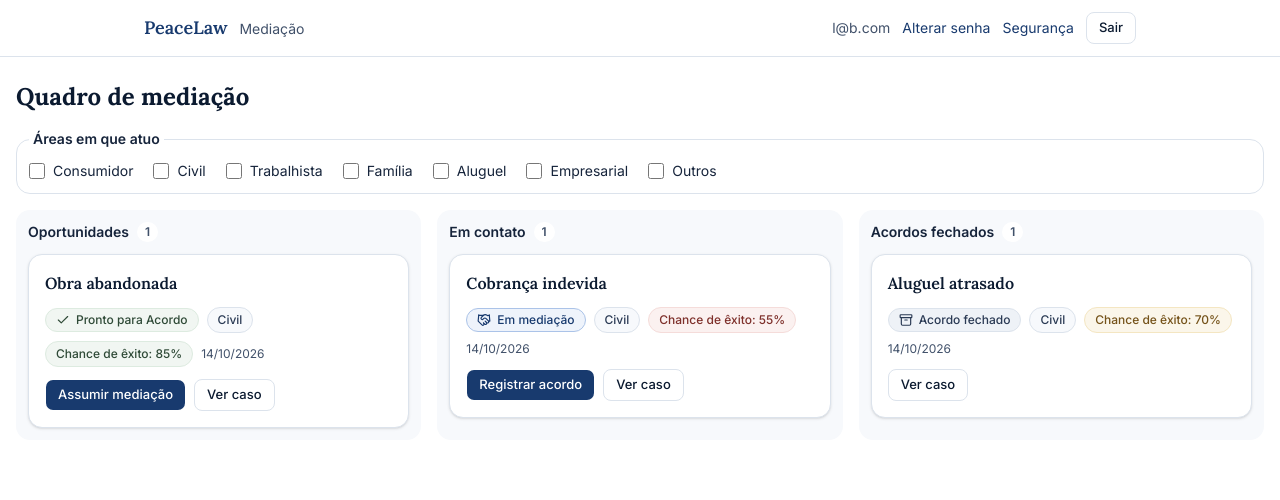
Test: LawyerBoard › reloads the board when another lawyer was faster
Step 1. Click the button "Assumir mediação" → (116, 395), box [45, 379, 186, 411]
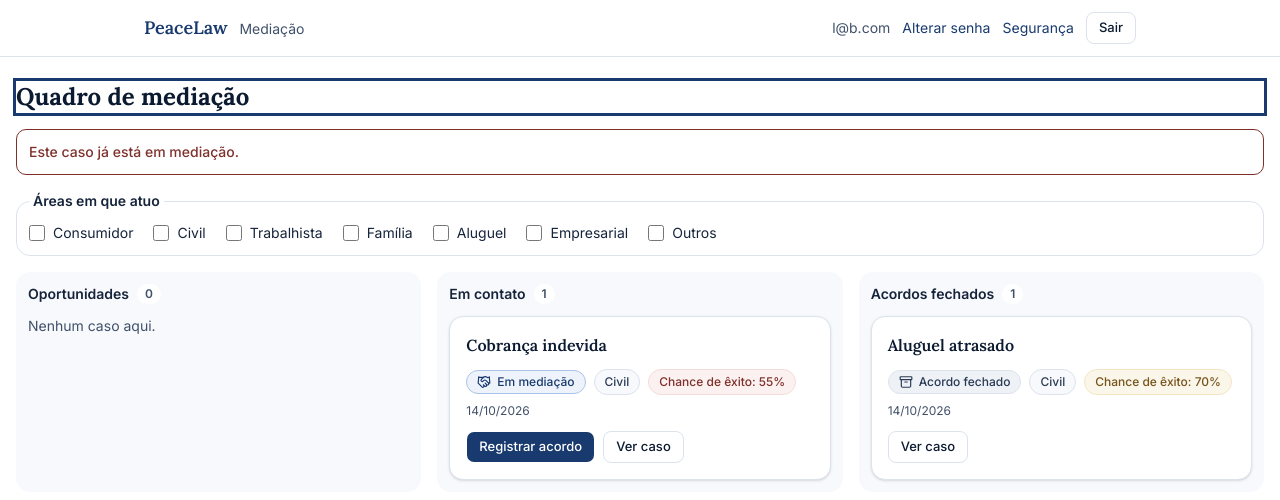
Expected: the message reads "Este caso já está em mediação.", [29, 143, 239, 160]
Expected: the heading "Obra abandonada" is gone
